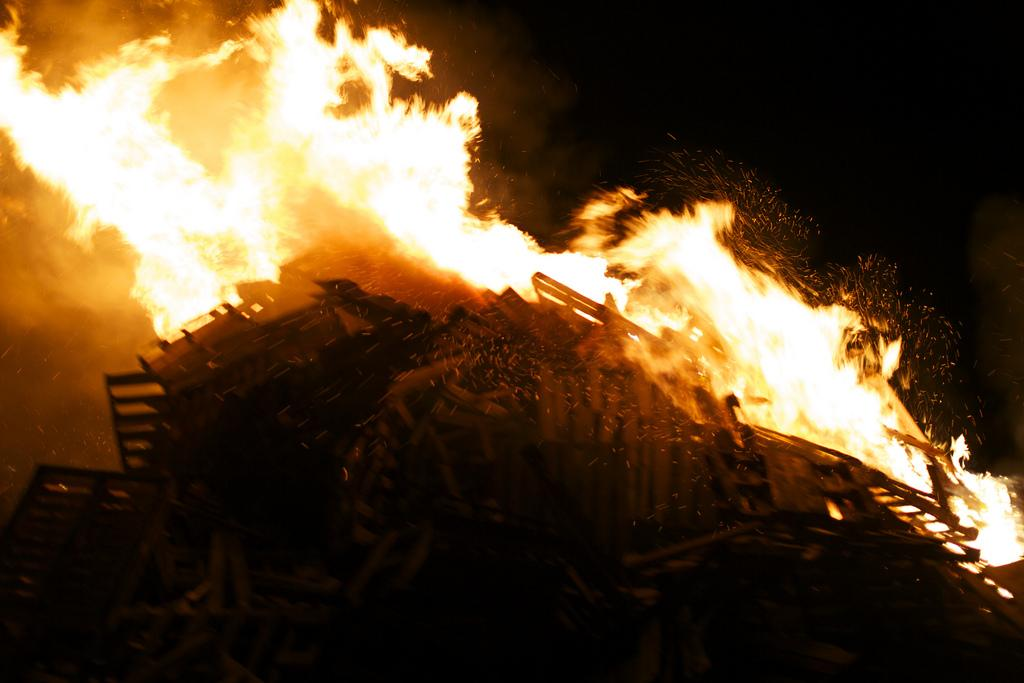fire: (290, 120, 465, 233), (28, 82, 160, 190), (747, 297, 835, 417), (275, 2, 322, 108), (145, 265, 218, 315)
